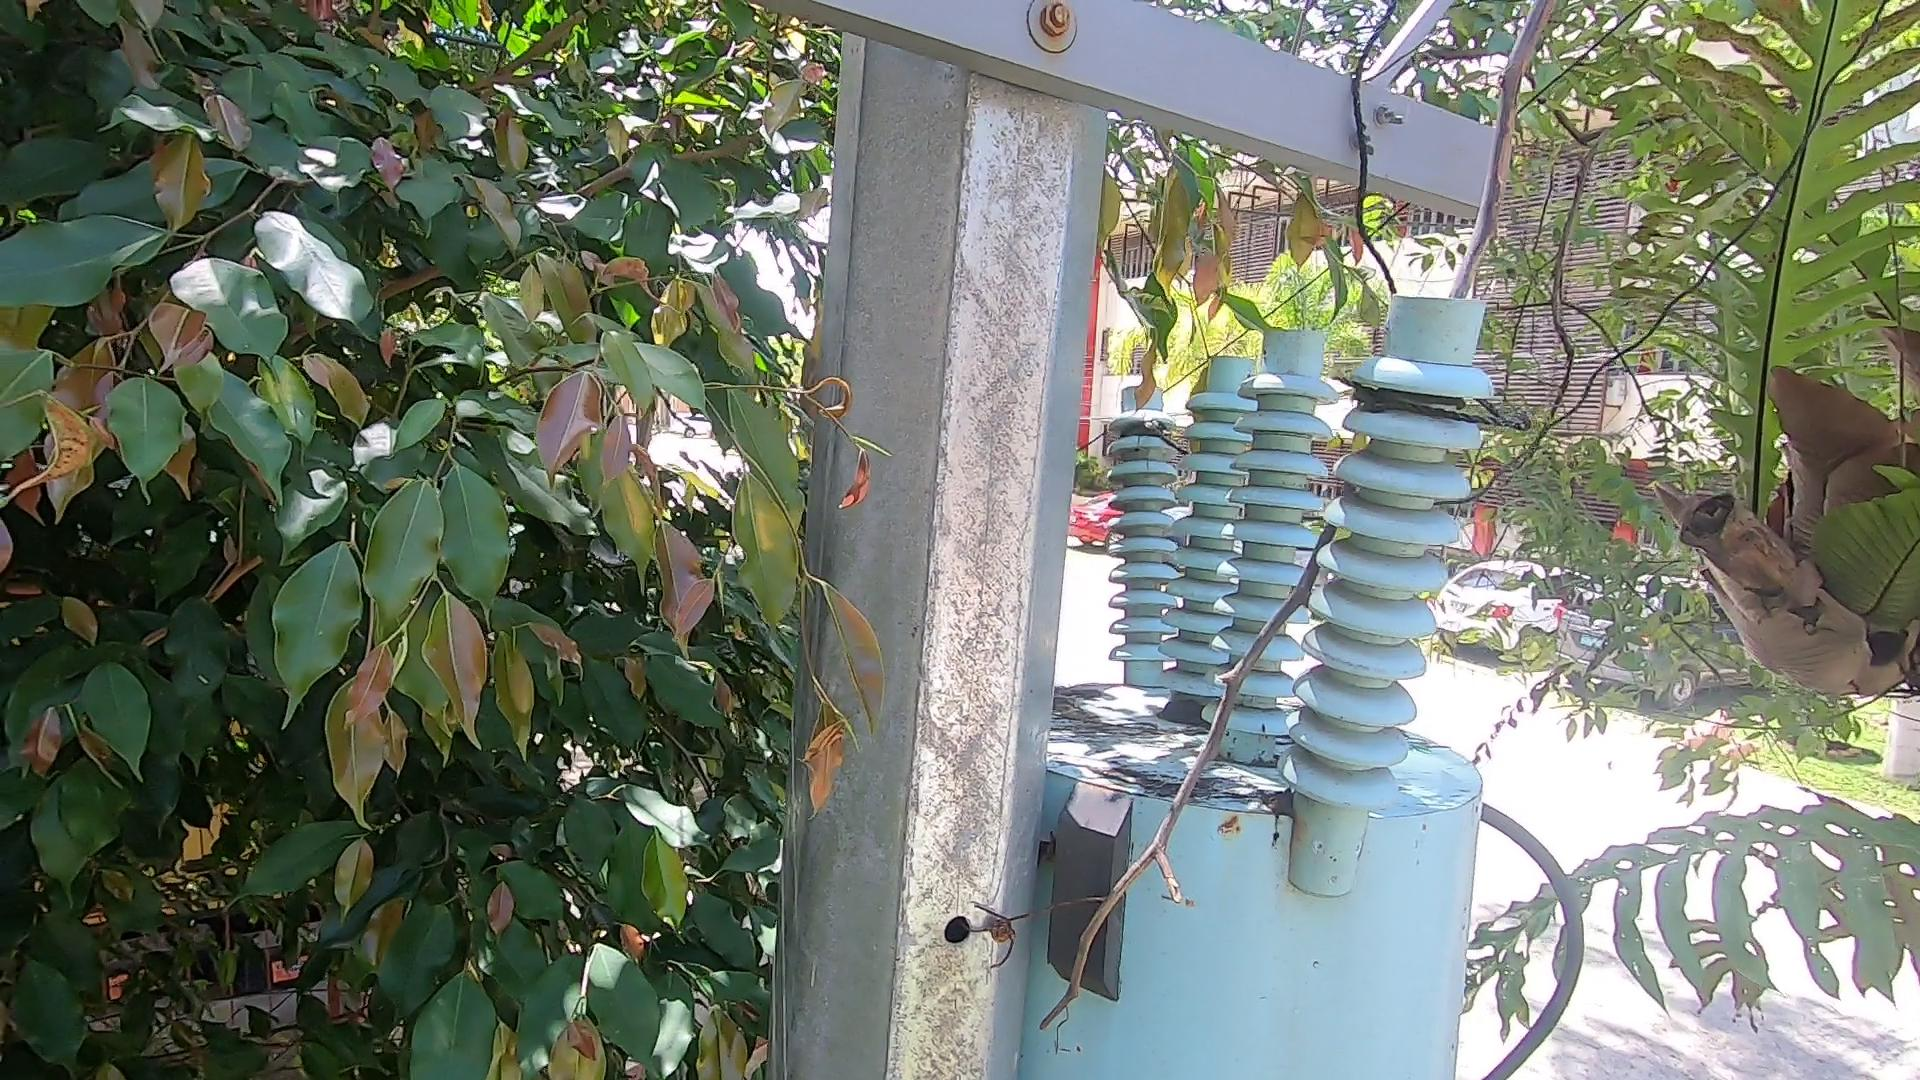branch with leaves: (1102, 236, 1399, 446)
leaf: (1245, 767, 1305, 819), (1153, 698, 1211, 738)
tree branch: (906, 3, 1575, 1039)
